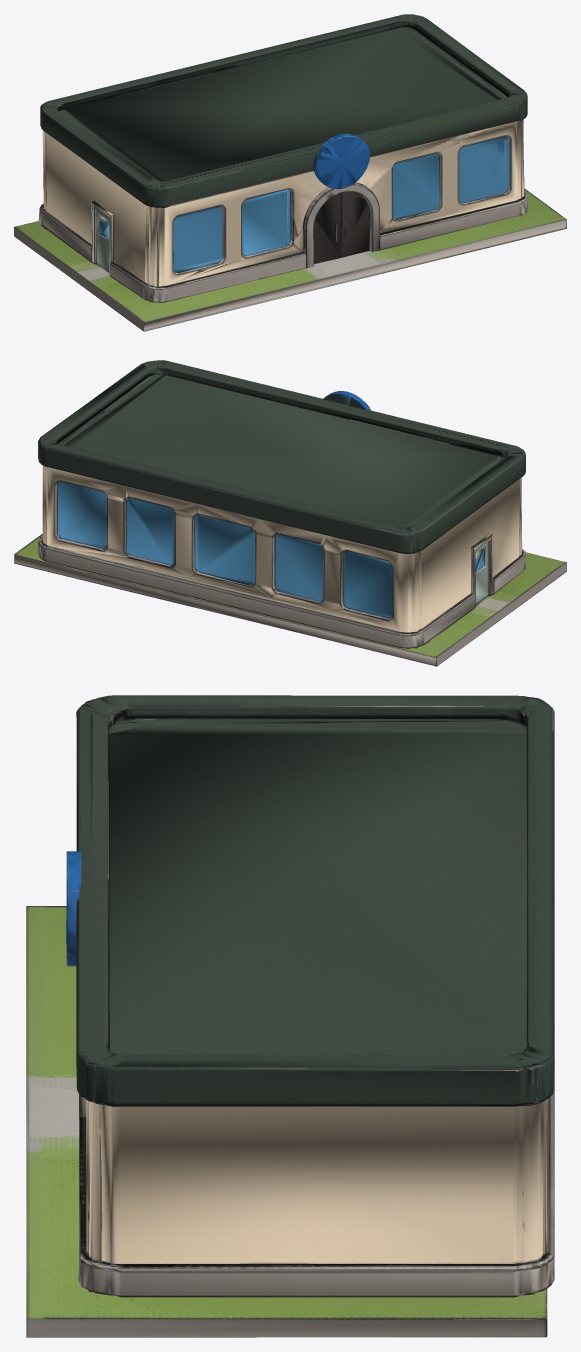
File: building-2-community.glb
3 views of the same model, one above another, from view 1: azimuth 30°, elevation 25°; view 2: azimuth 150°, elevation 25°; view 3: azimuth 270°, elevation 25° (orthographic). The views are drawn at different scales.
Bounding box in the file's own units: 0.9429 × 0.291 × 0.5103.
Materials: 1 (1 with a texture image).
